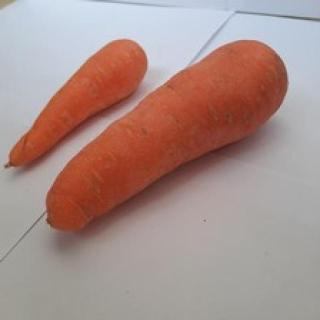carrot: (45, 39, 287, 231), (5, 39, 150, 170)
